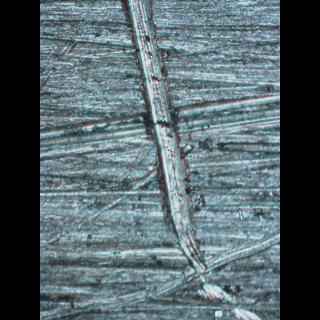d: (119, 0, 263, 318)
